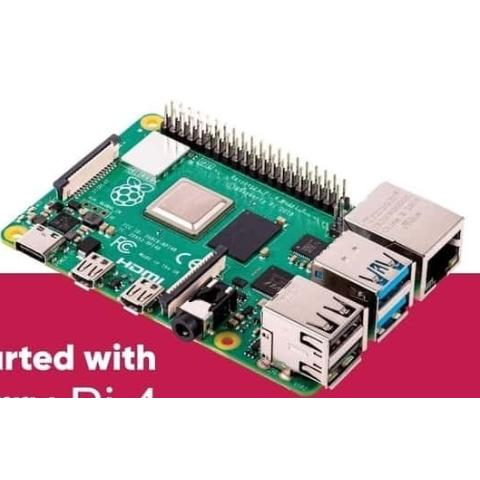Raspberry-Pi-4-Model-B: (0, 95, 467, 398)
